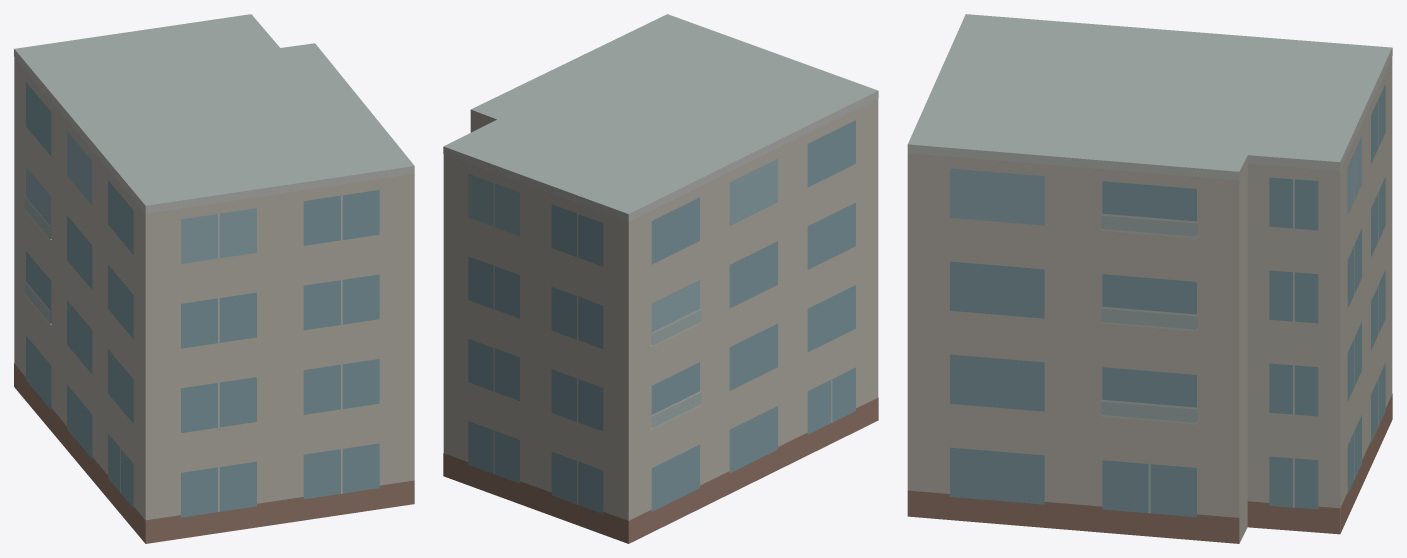
Rendered from survey-upis-33028787.glb.
3 views of the same model, side by side, from view 1: azimuth 30°, elevation 25°; view 2: azimuth 150°, elevation 25°; view 3: azimuth 270°, elevation 25° (orthographic). The views are drawn at different scales.
Visible parts, largest first — view 1: survey-upis-33028787.tmp; view 2: survey-upis-33028787.tmp; view 3: survey-upis-33028787.tmp.
Part boxes in pixels (x1=…): survey-upis-33028787.tmp: x1=14, y1=14, x2=414, y2=543; survey-upis-33028787.tmp: x1=443, y1=14, x2=878, y2=543; survey-upis-33028787.tmp: x1=907, y1=14, x2=1392, y2=543.
Size of the model in its own units: 9.56 by 10.5 by 12.41.
